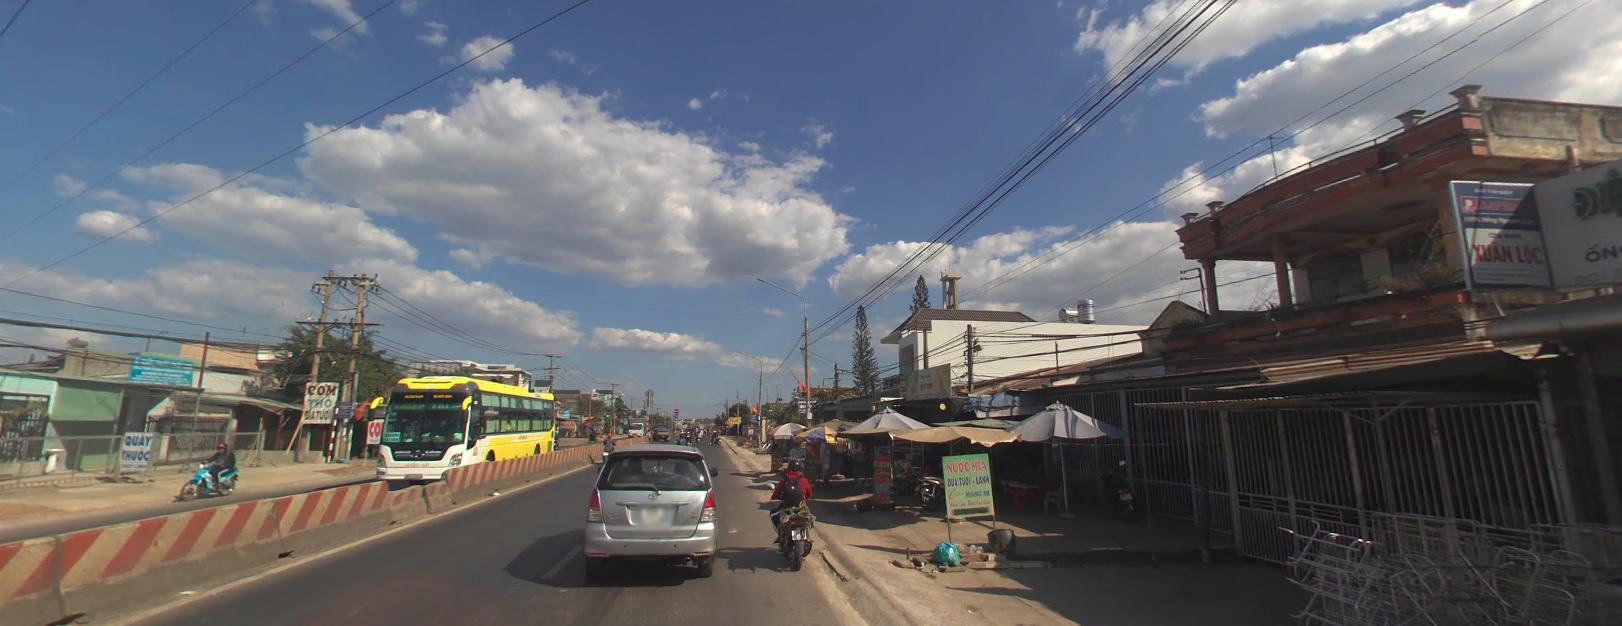Cam nguoc chieu: (673, 407, 677, 411)
Hieu lenh: (673, 412, 677, 416)
